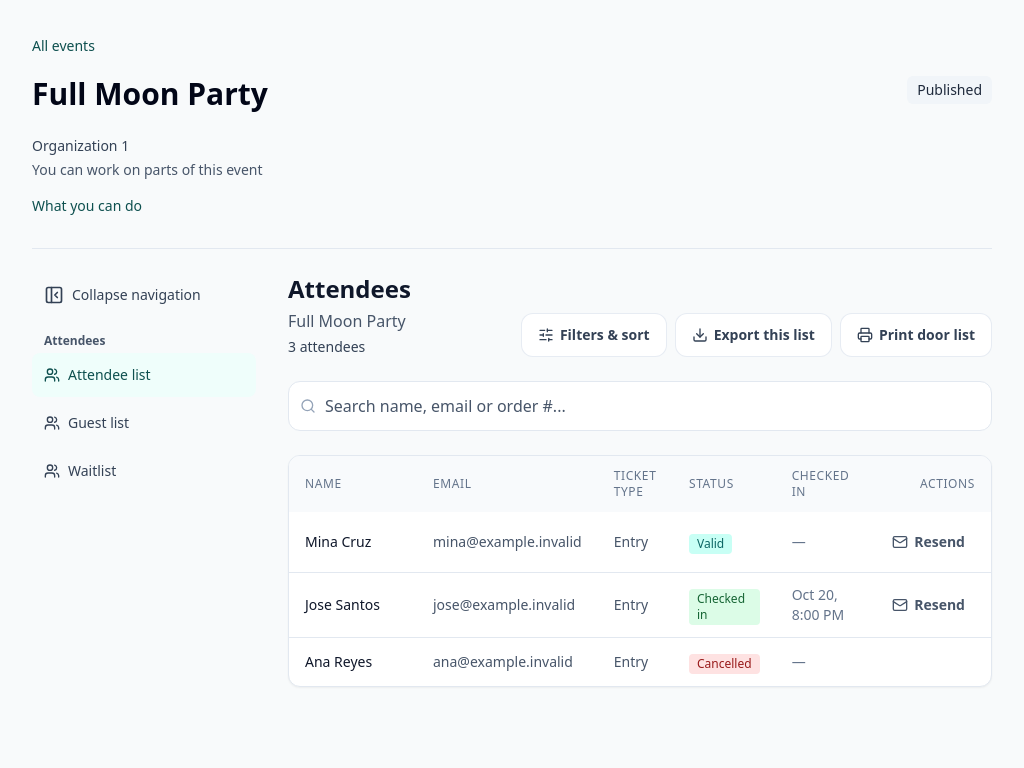
Test: attendee row actions › keeps the attendee list and explains a resend 403 inside the dialog
Click the button with aria-label "Resend ticket to Mina Cruz" at (929, 542), box [882,524,975,560]
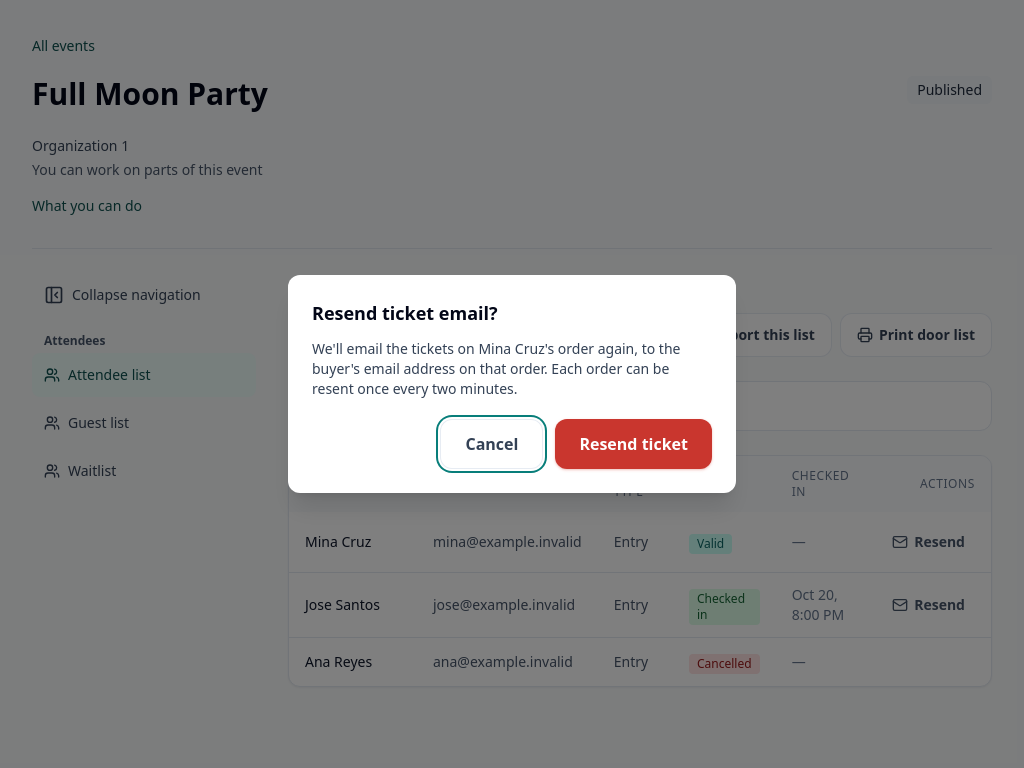
Click the button "Resend ticket" at (634, 444), box [555,419,712,469]
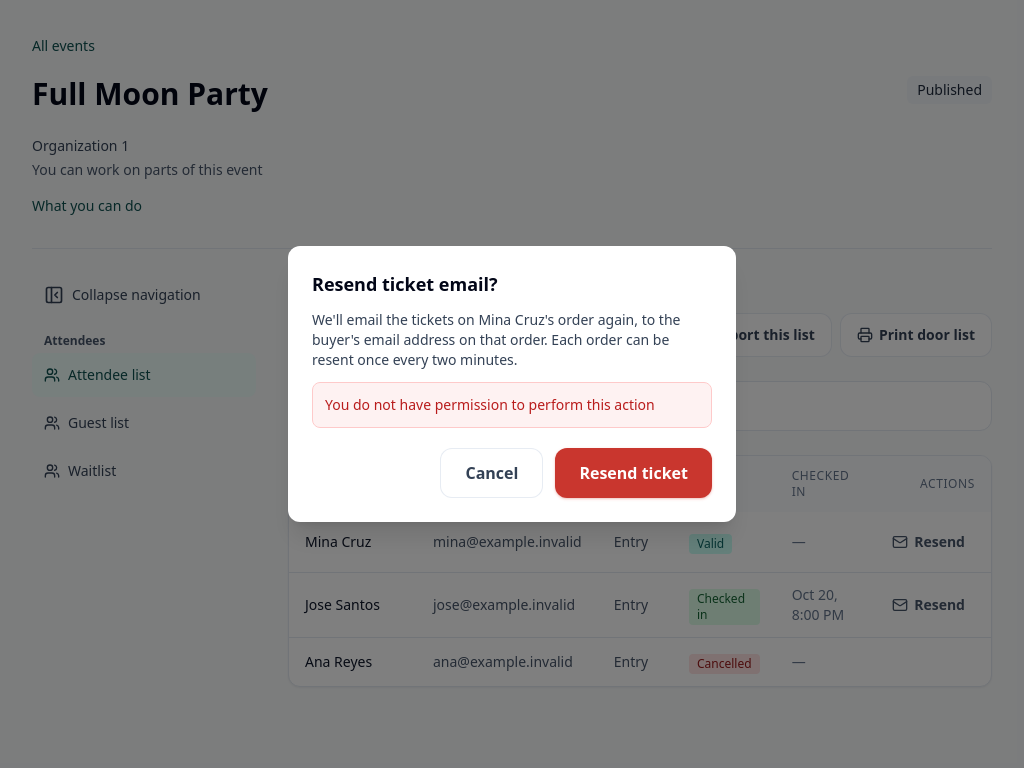
Expected: the text "Jose Santos" is shown, [289,572,417,638]
Now the message shows "do not have permission", box [325,395,655,414]
